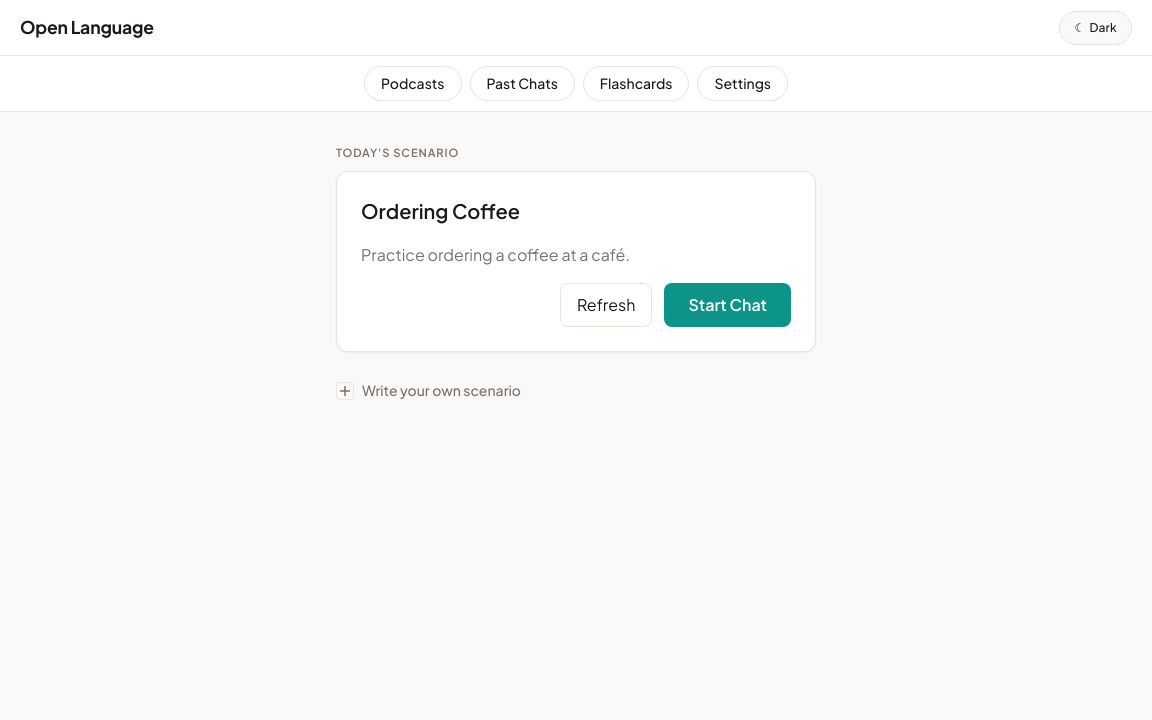
Home page — starting a chat › surfaces a failure to start and lets it be dismissed
This screenshot has width=1152, height=720.
Check: the heading "Ordering Coffee" is shown, box x1=361 y1=198 x2=520 y2=223
Click the button "Start Chat" at (728, 305), box x1=664 y1=283 x2=791 y2=327
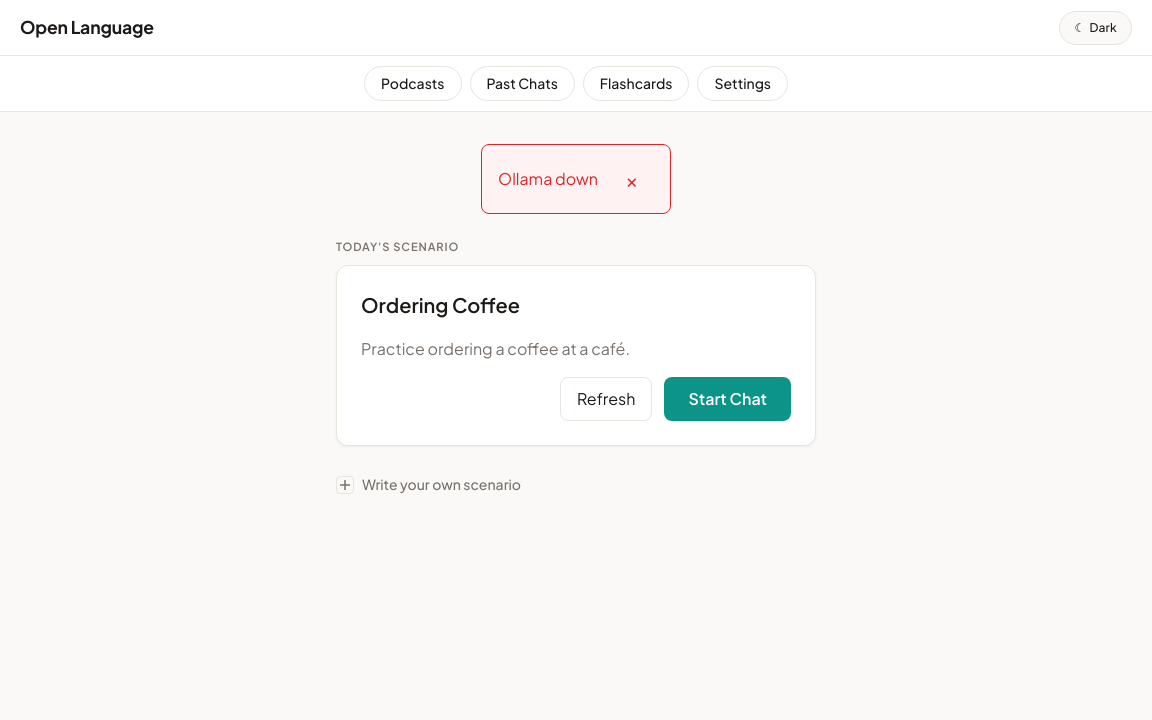
Check: the text "Ollama down" is shown, box x1=498 y1=167 x2=598 y2=191
Click the button named "dismiss" at (632, 179), box x1=610 y1=157 x2=654 y2=201
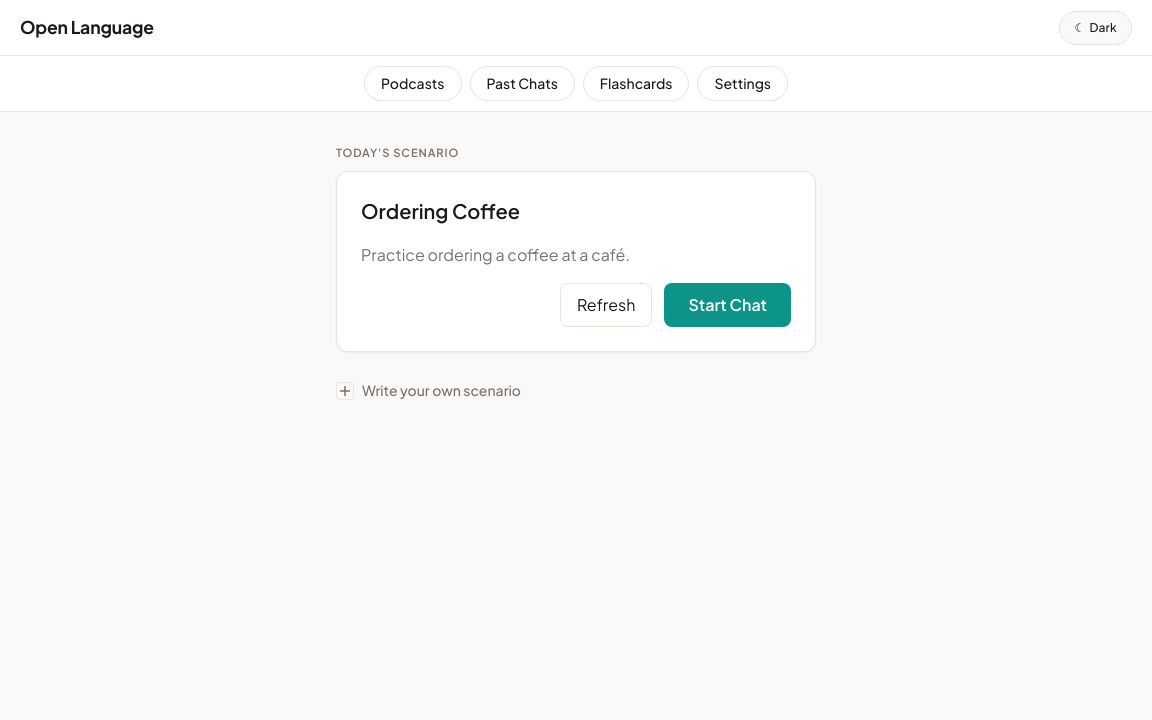
Check: the text "Ollama down" is gone
